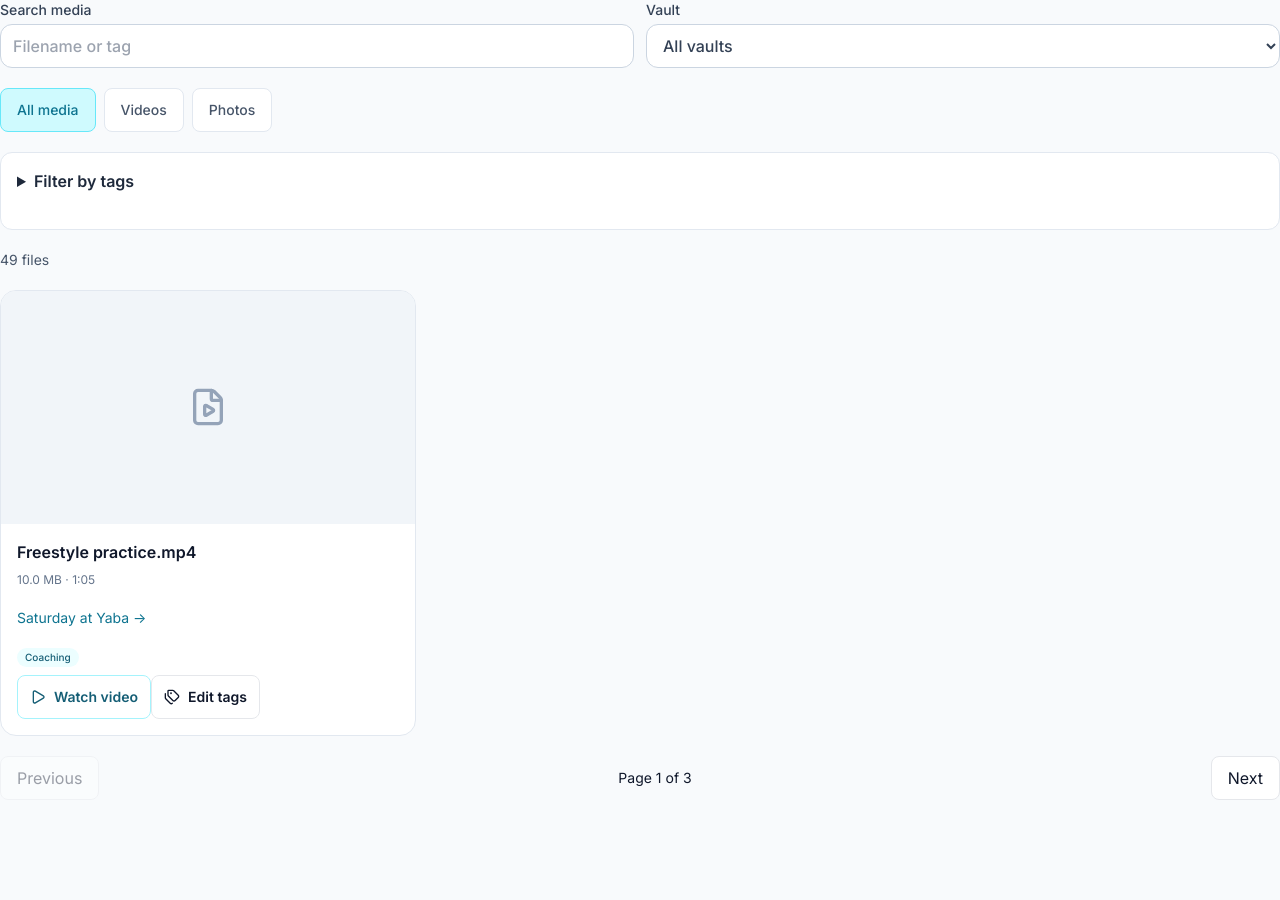
Vault media library › opens a phone-sized video player and requests an on-demand proxy
What coordinates should you click on to do the following:
click the button "Watch video"
I would click on:
 (84, 697)
Its box is left=17, top=675, right=151, bottom=719.
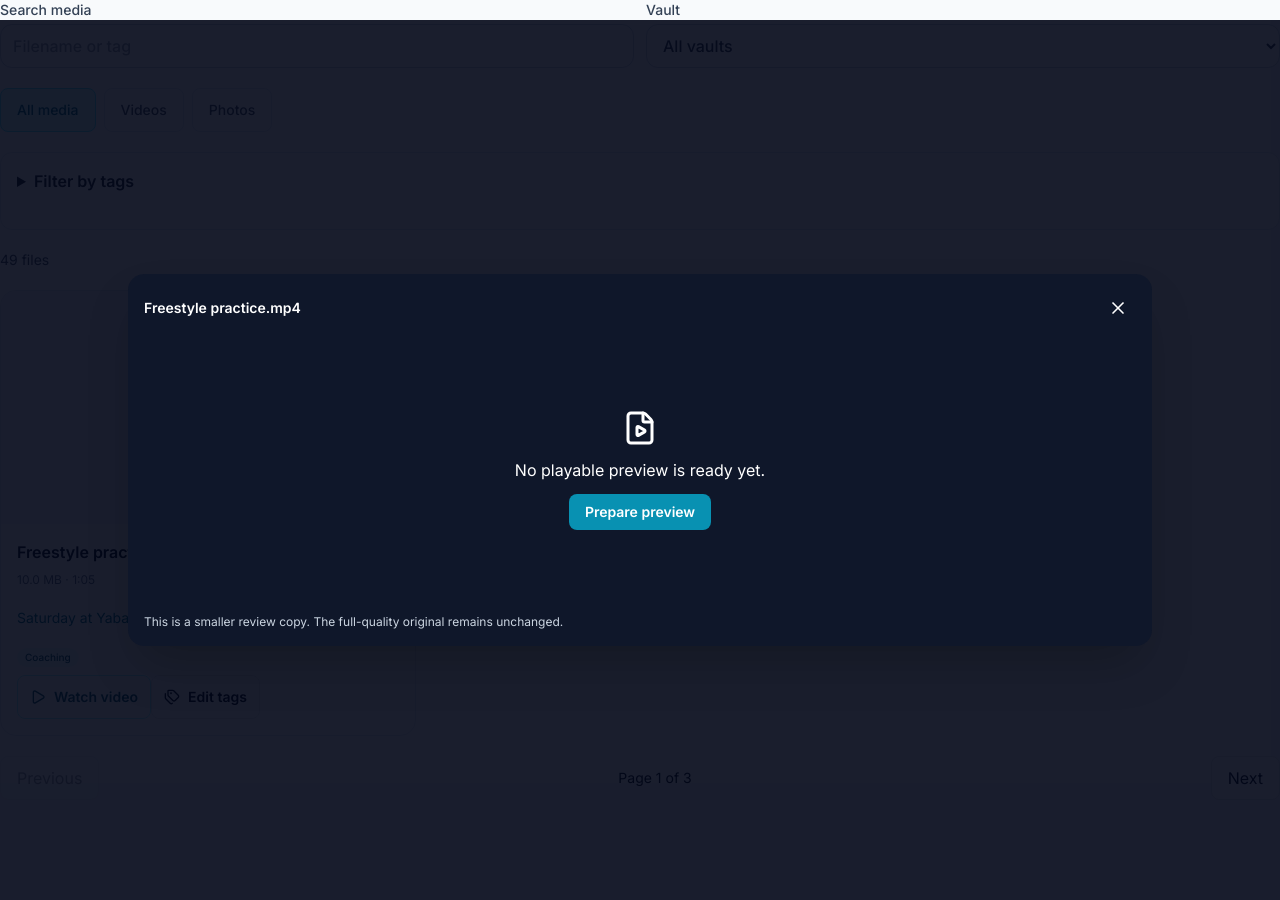
expect the dialog named "Watch Freestyle practice.mp4" is shown: met
